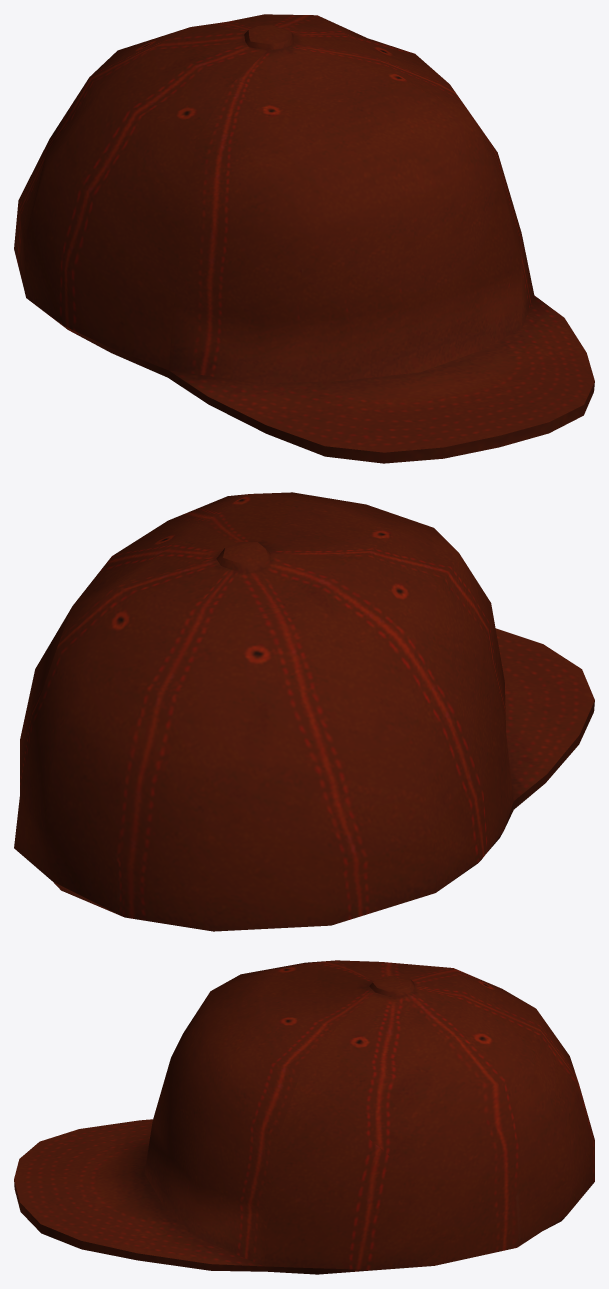
File: Hat_Brown.fbx
The picture shows the model from 3 angles, top to bottom: view 1: azimuth 30°, elevation 25°; view 2: azimuth 150°, elevation 25°; view 3: azimuth 270°, elevation 25°; orthographic projection. The views are drawn at different scales.
Visible parts, largest first — view 1: Hat_Brown; view 2: Hat_Brown; view 3: Hat_Brown.
Part boxes in pixels (bbox=[...]): Hat_Brown: bbox=[14, 14, 594, 463]; Hat_Brown: bbox=[14, 492, 594, 931]; Hat_Brown: bbox=[14, 960, 594, 1274].
Size of the model in its own units: 0.2378 by 0.1458 by 0.3546.
